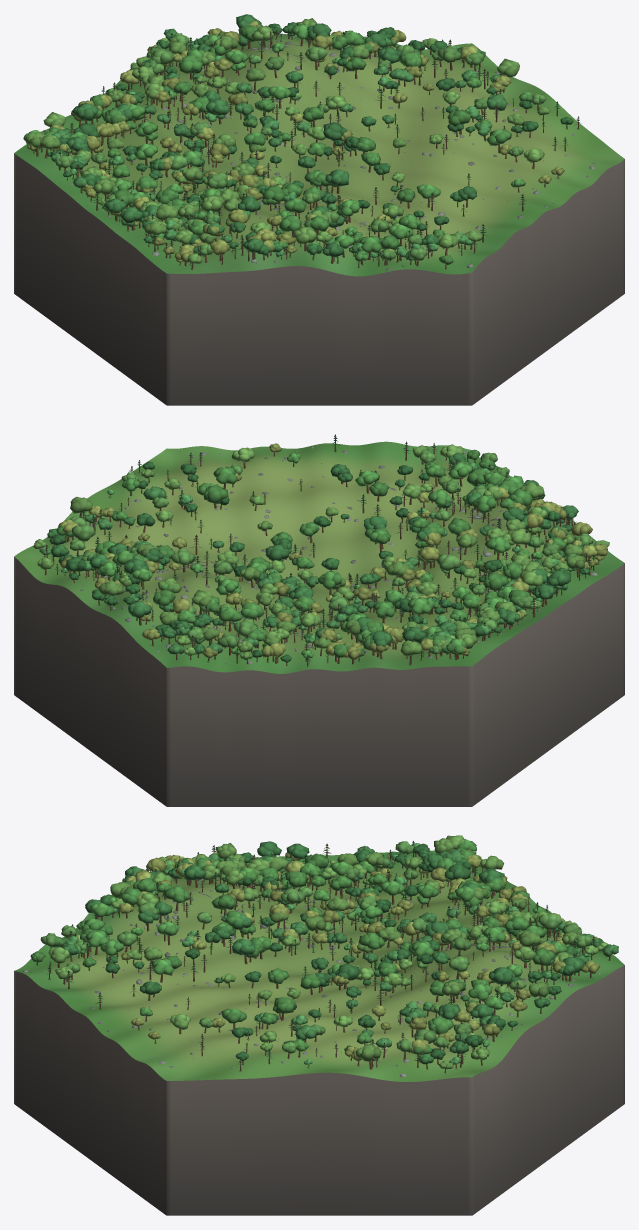
The picture shows the model from 3 angles, top to bottom: view 1: azimuth 30°, elevation 25°; view 2: azimuth 150°, elevation 25°; view 3: azimuth 270°, elevation 25°; orthographic projection.
Parts seen in each view (by area): view 1: hex_side_cut, broadleaf_canopy, terrain, trunks, conifer_canopy, boulders; view 2: hex_side_cut, broadleaf_canopy, terrain, trunks, conifer_canopy, boulders; view 3: hex_side_cut, broadleaf_canopy, terrain, trunks, conifer_canopy, boulders.
Boxes of the visible parts, left/top/right/bottom form: hex_side_cut: left=14, top=153, right=624, bottom=405; broadleaf_canopy: left=23, top=14, right=573, bottom=264; terrain: left=14, top=33, right=624, bottom=276; trunks: left=33, top=30, right=578, bottom=269; conifer_canopy: left=39, top=29, right=579, bottom=262; boulders: left=45, top=34, right=596, bottom=270; hex_side_cut: left=14, top=557, right=624, bottom=806; broadleaf_canopy: left=33, top=443, right=609, bottom=662; terrain: left=14, top=441, right=624, bottom=673; trunks: left=39, top=435, right=599, bottom=666; conifer_canopy: left=44, top=434, right=595, bottom=661; boulders: left=69, top=446, right=600, bottom=664; hex_side_cut: left=14, top=965, right=624, bottom=1215; broadleaf_canopy: left=30, top=835, right=618, bottom=1069; terrain: left=14, top=850, right=624, bottom=1081; trunks: left=36, top=842, right=610, bottom=1073; conifer_canopy: left=47, top=841, right=598, bottom=1065; boulders: left=23, top=871, right=600, bottom=1077.
Size of the model in its own units: 4330 by 1665 by 5000.
